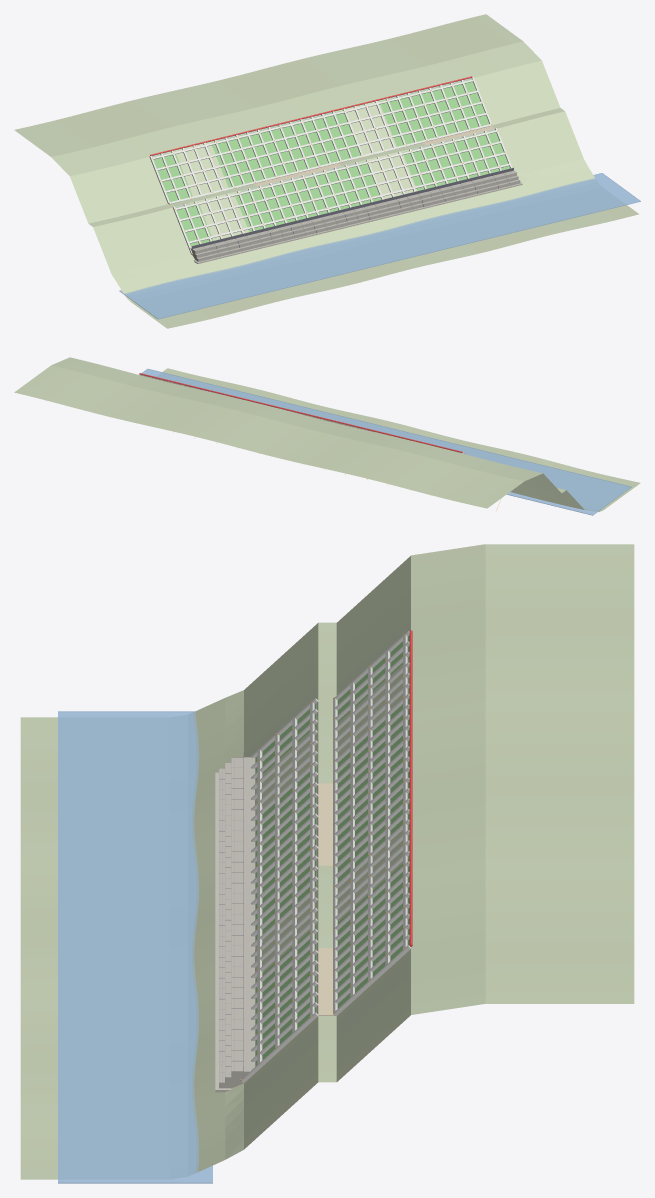
3 renders of one model, top to bottom at view 1: azimuth 30°, elevation 25°; view 2: azimuth 150°, elevation 25°; view 3: azimuth 270°, elevation 25°, orthographic. The views are drawn at different scales.
Visible parts, largest first — view 1: 地形|現況地形 (参考), 地形|水面 (参考), 法面工|植生基材吹付 t=5cm 枠内 (法面2 (H=6m)), 法枠工|吹付法枠工 b300×h300 @2.0m (法面2 (H=6m), 枠36本), 法面工|植生基材吹付 t=5cm 枠内 (法面1 (H=6m)), 法枠工|吹付法枠工 b300×h300 @2.0m (法面1 (H=6m), 枠36本), かご工|ふとんかご 3段目 (2.0×1.0×0.5m を一体化), かご工|ふとんかご 1段目 (2.0×1.0×0.5m を一体化), かご工|ふとんかご 2段目 (2.0×1.0×0.5m を一体化), かご工|かご枠・金網 (φ4mm 亜鉛めっき, 代表表現), かご工|吸出し防止材 (かご背面), かご工|かご基礎 砕石 t=20cm (+2 smaller); view 2: 地形|現況地形 (参考), 地形|水面 (参考), 線形|法面保護工 範囲 (法肩線・法尻線); view 3: 地形|現況地形 (参考), 地形|水面 (参考), 法枠工|吹付法枠工 b300×h300 @2.0m (法面2 (H=6m), 枠36本), 法枠工|吹付法枠工 b300×h300 @2.0m (法面1 (H=6m), 枠36本), かご工|ふとんかご 3段目 (2.0×1.0×0.5m を一体化), 法面工|植生基材吹付 t=5cm 枠内 (法面2 (H=6m)), 法面工|植生基材吹付 t=5cm 枠内 (法面1 (H=6m)), かご工|ふとんかご 2段目 (2.0×1.0×0.5m を一体化), 法面|小段 (幅1.5m), かご工|かご枠・金網 (φ4mm 亜鉛めっき, 代表表現), かご工|ふとんかご 1段目 (2.0×1.0×0.5m を一体化), かご工|かご基礎 砕石 t=20cm (+1 smaller).
Part boxes in pixels (x1=…): 地形|現況地形 (参考): x1=14, y1=14, x2=638, y2=328; 地形|水面 (参考): x1=119, y1=173, x2=640, y2=319; 法面工|植生基材吹付 t=5cm 枠内 (法面2 (H=6m)): x1=152, y1=79, x2=489, y2=201; 法枠工|吹付法枠工 b300×h300 @2.0m (法面2 (H=6m), 枠36本): x1=149, y1=77, x2=491, y2=204; 法面工|植生基材吹付 t=5cm 枠内 (法面1 (H=6m)): x1=175, y1=130, x2=510, y2=246; 法枠工|吹付法枠工 b300×h300 @2.0m (法面1 (H=6m), 枠36本): x1=172, y1=128, x2=512, y2=254; かご工|ふとんかご 3段目 (2.0×1.0×0.5m を一体化): x1=190, y1=170, x2=516, y2=253; かご工|ふとんかご 1段目 (2.0×1.0×0.5m を一体化): x1=192, y1=179, x2=519, y2=261; かご工|ふとんかご 2段目 (2.0×1.0×0.5m を一体化): x1=192, y1=175, x2=518, y2=257; かご工|かご枠・金網 (φ4mm 亜鉛めっき, 代表表現): x1=192, y1=171, x2=520, y2=261; かご工|吸出し防止材 (かご背面): x1=192, y1=167, x2=513, y2=248; かご工|かご基礎 砕石 t=20cm: x1=193, y1=182, x2=522, y2=263; 地形|現況地形 (参考): x1=14, y1=357, x2=640, y2=511; 地形|水面 (参考): x1=141, y1=368, x2=631, y2=515; 線形|法面保護工 範囲 (法肩線・法尻線): x1=139, y1=373, x2=462, y2=452; 地形|現況地形 (参考): x1=20, y1=544, x2=634, y2=1179; 地形|水面 (参考): x1=58, y1=711, x2=212, y2=1183; 法枠工|吹付法枠工 b300×h300 @2.0m (法面2 (H=6m), 枠36本): x1=333, y1=631, x2=410, y2=1015; 法枠工|吹付法枠工 b300×h300 @2.0m (法面1 (H=6m), 枠36本): x1=241, y1=698, x2=318, y2=1083; かご工|ふとんかご 3段目 (2.0×1.0×0.5m を一体化): x1=231, y1=757, x2=255, y2=1077; 法面工|植生基材吹付 t=5cm 枠内 (法面2 (H=6m)): x1=337, y1=636, x2=409, y2=1008; 法面工|植生基材吹付 t=5cm 枠内 (法面1 (H=6m)): x1=255, y1=703, x2=316, y2=1066; かご工|ふとんかご 2段目 (2.0×1.0×0.5m を一体化): x1=225, y1=763, x2=243, y2=1082; 法面|小段 (幅1.5m): x1=318, y1=783, x2=335, y2=1015; かご工|かご枠・金網 (φ4mm 亜鉛めっき, 代表表現): x1=219, y1=757, x2=243, y2=1082; かご工|ふとんかご 1段目 (2.0×1.0×0.5m を一体化): x1=219, y1=768, x2=243, y2=1088; かご工|かご基礎 砕石 t=20cm: x1=215, y1=772, x2=231, y2=1092.
Size of the model in its own units: 90 by 15.83 by 49.5.
